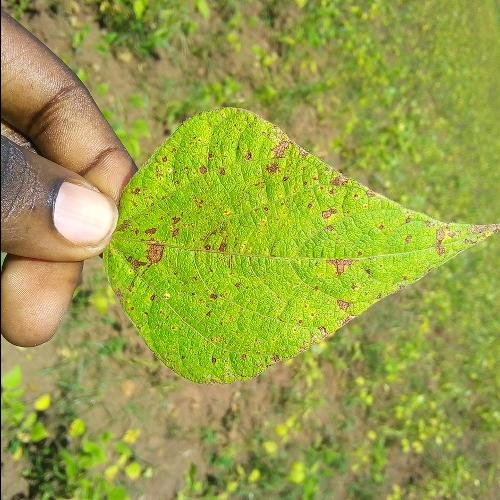hawar: (124, 210, 232, 313), (198, 122, 302, 194), (303, 254, 376, 341), (393, 208, 496, 268), (300, 168, 360, 245), (184, 336, 292, 378)
